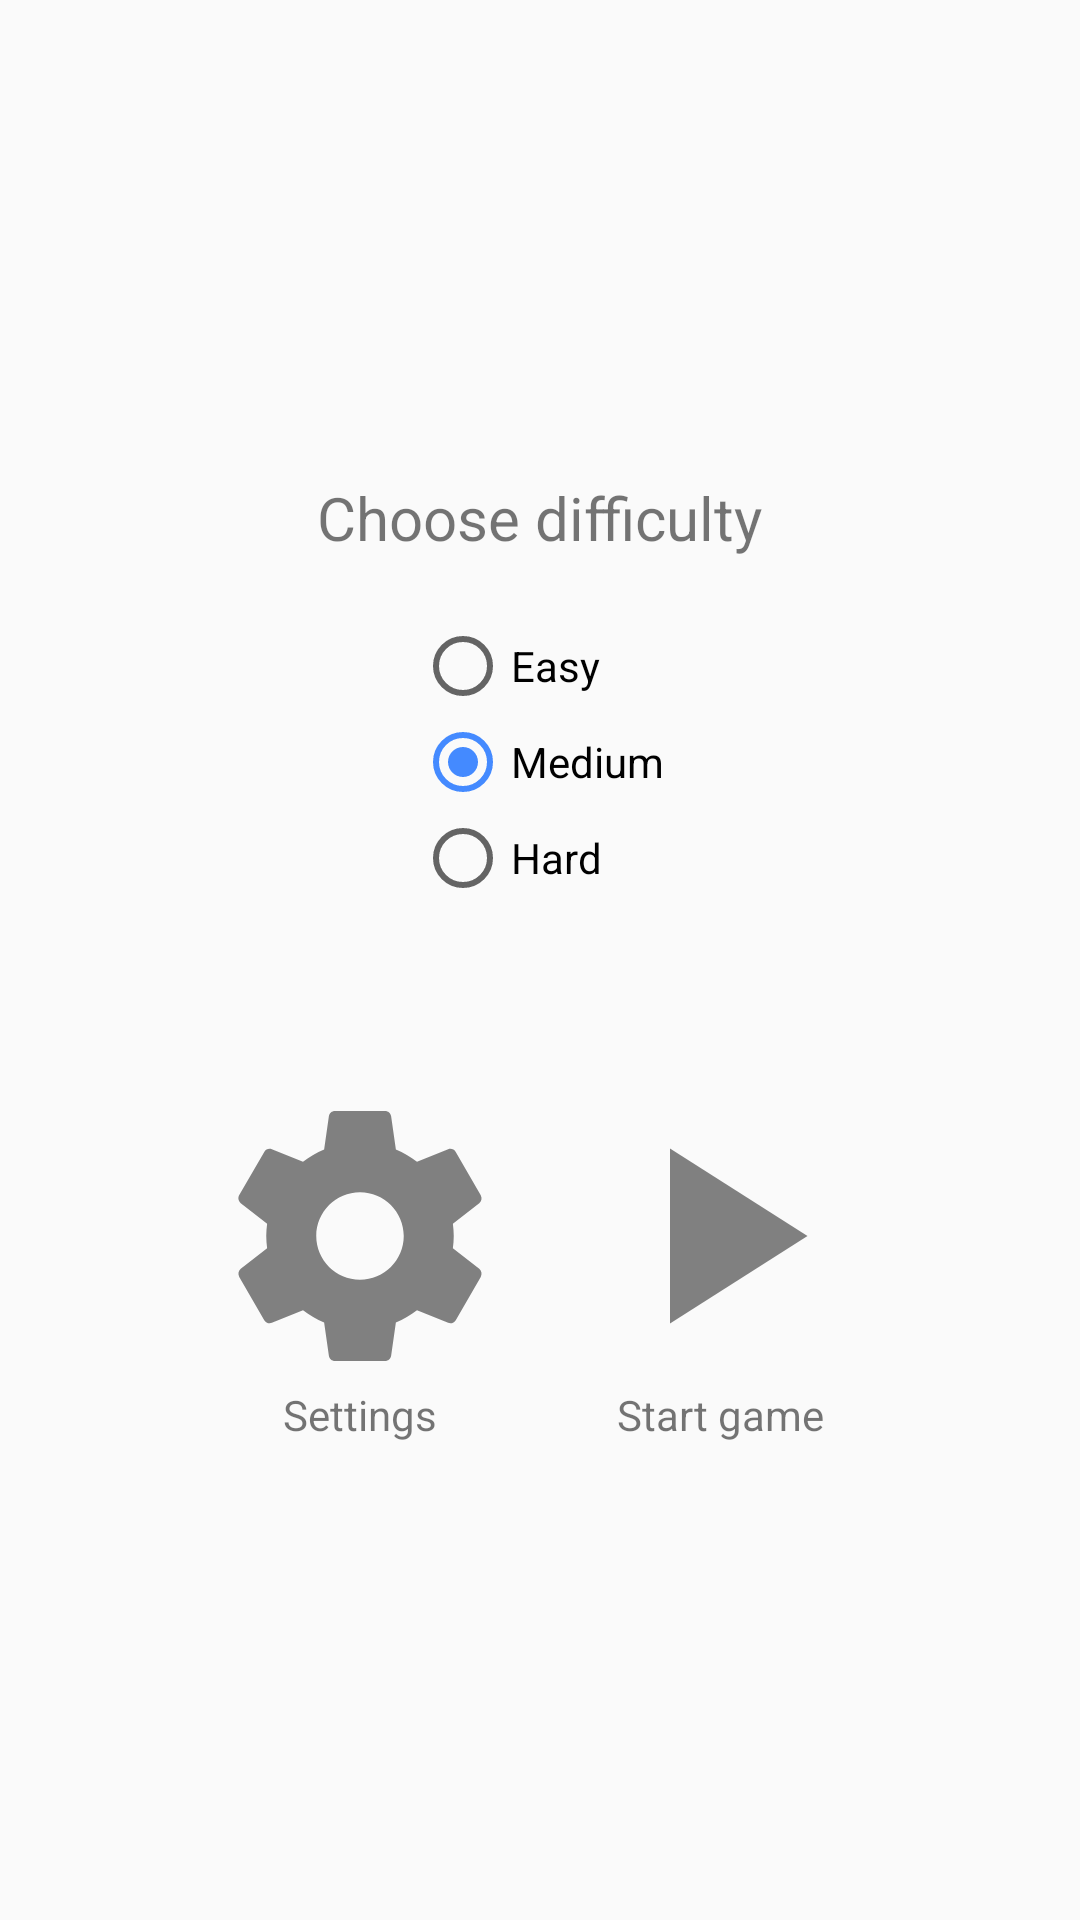

Named icons in this screenshot (1080*1920) and their bounding boxes, (x1, y1, x2, y2):
play arrow: (670, 1148, 807, 1324)
